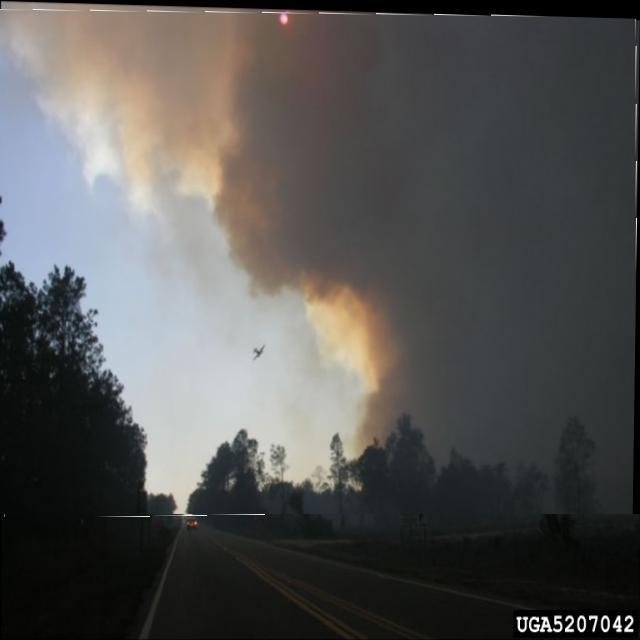smoke: (223, 18, 635, 421), (7, 15, 221, 208), (214, 208, 378, 440)
